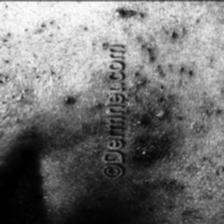Non-Cancerous Skin Condition: (0, 4, 88, 130), (126, 42, 204, 182), (132, 189, 224, 224), (104, 0, 172, 31), (217, 0, 224, 173)
